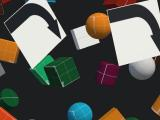Right: (4, 0, 66, 69), (106, 0, 160, 66)
